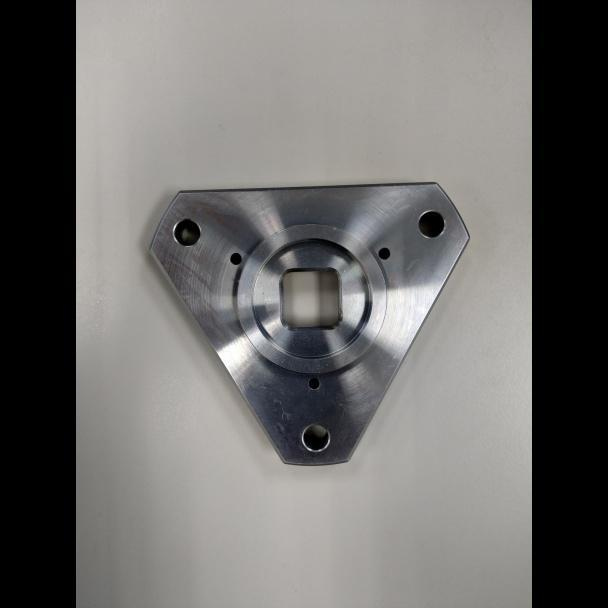hole: (297, 420, 332, 453), (170, 215, 204, 248), (414, 207, 448, 240), (226, 249, 246, 268), (376, 244, 394, 261), (304, 375, 323, 391)
